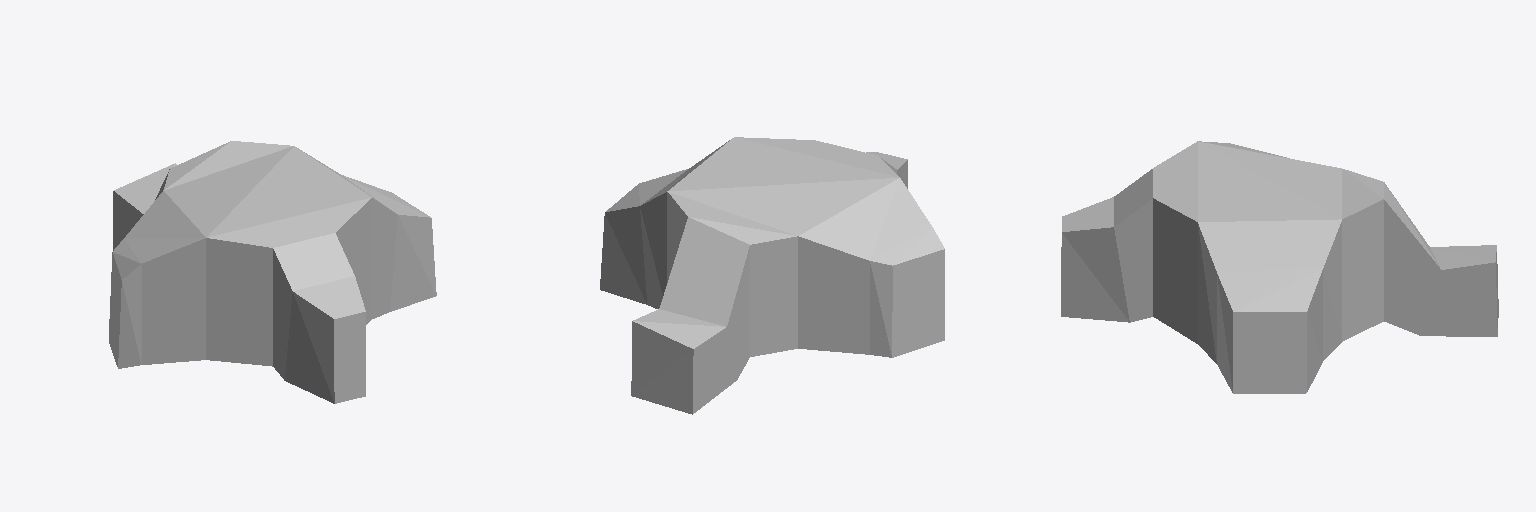
3 views of the same model, side by side, from view 1: azimuth 30°, elevation 25°; view 2: azimuth 150°, elevation 25°; view 3: azimuth 270°, elevation 25° (orthographic).
Visible parts, largest first — view 1: World1Patch3; view 2: World1Patch3; view 3: World1Patch3.
Part boxes in pixels (x1,y1,x2,y2): World1Patch3: (109,141,436,403); World1Patch3: (600,137,944,414); World1Patch3: (1061,141,1498,393).
Size of the model in its own units: 15.91 by 6.8 by 19.16.